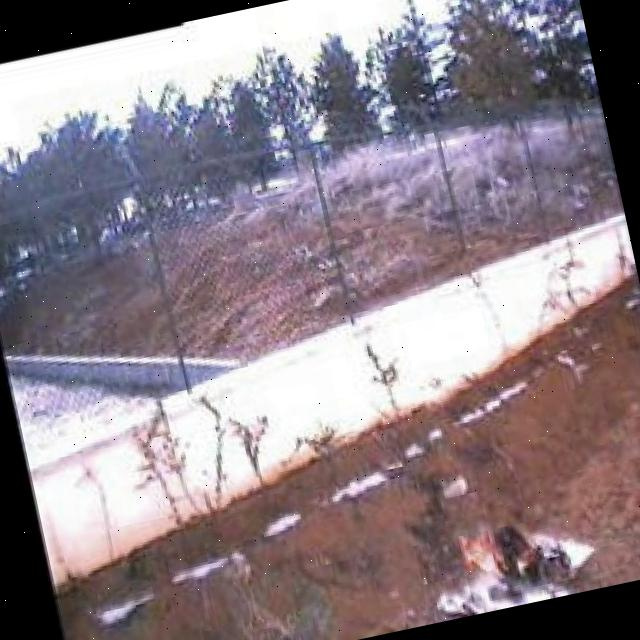fire: (450, 504, 572, 606)
